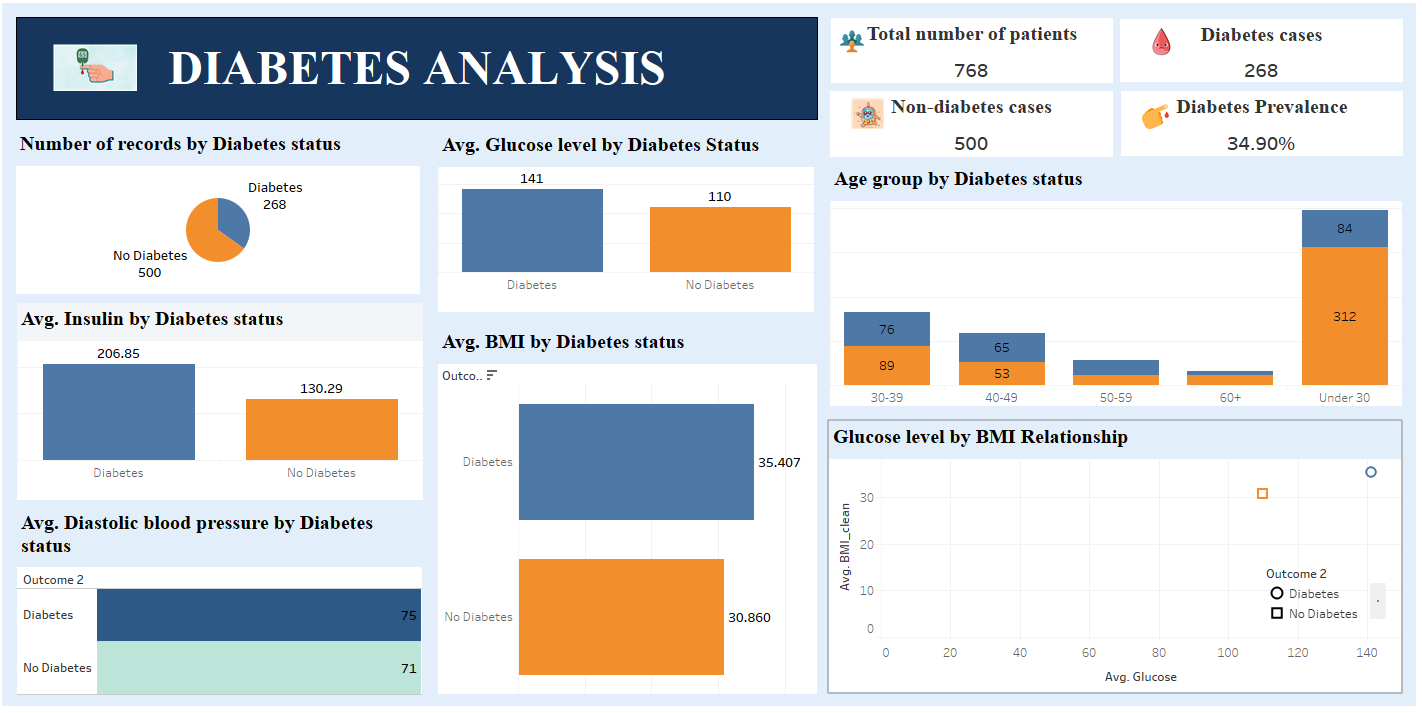

The page's visual inventory and layout, read from the dashboard file:
{"tool":"tableau","page":{"name":"Dashboard 1","canvas":[1000,1000],"units":"permille","ordinal":0},"visuals":[{"type":"blank","box":[6.3,8.4,989.5,981.8]},{"type":"text","box":[12.6,20.9,568.2,157.8]},{"type":"worksheet","title":"Total number of patients","mark":"Automatic","box":[586.4,29.3,197.3,90.8]},{"type":"worksheet","title":"Diabetes cases","mark":"Automatic","box":[788.7,30.7,198,88]},{"type":"image","param":"C:/Users/ahmed/Downloads/diabetes cases.jpg","box":[805.5,37.7,40.6,47.5]},{"type":"image","param":"C:/Users/ahmed/Downloads/people.jpg","box":[590.6,41.9,22.4,40.5]},{"type":"image","param":"C:/Users/ahmed/Downloads/diabetes image.jpg","box":[42,65.6,58.8,68.4]},{"type":"worksheet","title":"Non-diabetes cases","mark":"Automatic","box":[585.7,131.3,198,92.2]},{"type":"worksheet","title":"Diabetes Prevalence","mark":"Automatic","box":[789.4,131.3,197.3,90.8]},{"type":"image","param":"C:/Users/ahmed/Pictures/Screenshots/Screenshot 2026-11-04 120725.png","box":[600.4,141.1,28,43.3]},{"type":"image","param":"C:/Users/ahmed/Downloads/dp.png","box":[801.3,142.5,33.6,47.5]},{"type":"worksheet","title":"Number of records by Diabetes status","mark":"Pie","box":[16.1,183,282.7,231.8]},{"type":"worksheet","title":"Avg. Glucose level by Diabetes Status","mark":"Automatic","rows":["Glucose"],"cols":["Outcome 2"],"box":[311.4,184.4,263.1,255.6]},{"type":"worksheet","title":"Age group by Diabetes status","mark":"Automatic","rows":["Number of Records"],"cols":["Age group"],"box":[585.7,231.8,400.3,339.4]},{"type":"worksheet","title":"Avg. Insulin by Diabetes status","mark":"Automatic","rows":["Insulin_clean"],"cols":["Outcome 2"],"box":[16.8,427.4,284.1,275.1]},{"type":"worksheet","title":"Avg. BMI by Diabetes status","mark":"Automatic","rows":["Outcome 2"],"cols":["BMI_clean"],"box":[311.4,459.5,265.2,514]},{"type":"worksheet","title":"Glucose level by BMI Relationship","mark":"Automatic","rows":["BMI_clean"],"cols":["Glucose"],"box":[585,592.2,400.3,378.5]},{"type":"worksheet","title":"Avg. Diastolic blood pressure by Diabetes status","mark":"Square","rows":["Outcome 2"],"box":[16.8,712.3,283.4,262.6]},{"type":"legend","title":"Glucose level by BMI Relationship","param":"[federated.0518o4h054zwyy10bixow1h05z01].[none:Outcome 2:nk]","box":[890.8,793.3,85.4,75.4]}]}

Visuals, with their boxes on the dashboard's canvas, which has no fixed pixel size, in thousandths of its width and height (x1, y1, x2, y2). These are canvas units, not pixel positions in the 1422x713 screenshot, which may show the page scaled, cropped or inside an application window:
blank: <region>6, 8, 996, 990</region>
text: <region>13, 21, 581, 179</region>
"Total number of patients" worksheet: <region>586, 29, 784, 120</region>
"Diabetes cases" worksheet: <region>789, 31, 987, 119</region>
image: <region>806, 38, 846, 85</region>
image: <region>591, 42, 613, 82</region>
image: <region>42, 66, 101, 134</region>
"Non-diabetes cases" worksheet: <region>586, 131, 784, 224</region>
"Diabetes Prevalence" worksheet: <region>789, 131, 987, 222</region>
image: <region>600, 141, 628, 184</region>
image: <region>801, 142, 835, 190</region>
"Number of records by Diabetes status" worksheet (Pie marks): <region>16, 183, 299, 415</region>
"Avg. Glucose level by Diabetes Status" worksheet: <region>311, 184, 574, 440</region>
"Age group by Diabetes status" worksheet: <region>586, 232, 986, 571</region>
"Avg. Insulin by Diabetes status" worksheet: <region>17, 427, 301, 702</region>
"Avg. BMI by Diabetes status" worksheet: <region>311, 460, 577, 974</region>
"Glucose level by BMI Relationship" worksheet: <region>585, 592, 985, 971</region>
"Avg. Diastolic blood pressure by Diabetes status" worksheet (Square marks): <region>17, 712, 300, 975</region>
"Glucose level by BMI Relationship" legend: <region>891, 793, 976, 869</region>
